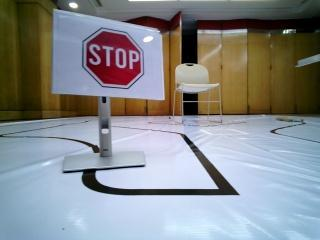stop: (53, 11, 164, 94)
